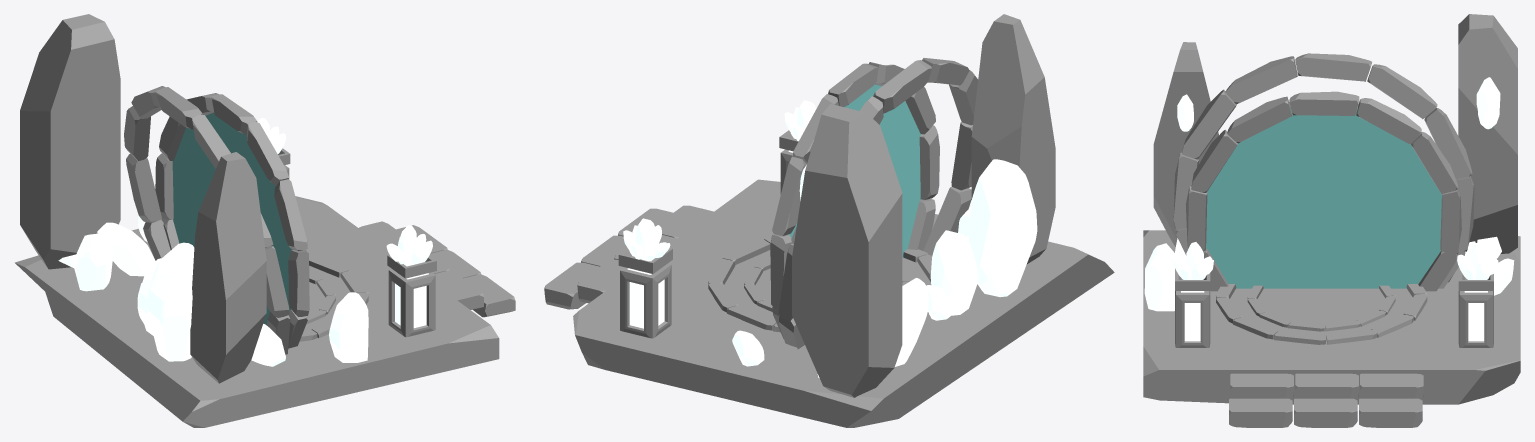
The model's file is Portal 1.fbx.
3 views of the same model, side by side, from view 1: azimuth 30°, elevation 25°; view 2: azimuth 150°, elevation 25°; view 3: azimuth 270°, elevation 25° (orthographic). The views are drawn at different scales.
Parts seen in each view (by area): view 1: Cube.003, Cube.001, Cube.010, Cube.014, Cube.017, Cube.008, Cube.016, Cube.007, Sphere.007, Cube.012, Cube.009; view 2: Cube.003, Cube.010, Cube.001, Cube.009, Cube.017, Cube.016, Cube.008, Sphere.001, Cube.002, Sphere.007; view 3: Cube.003, Cube.001, Cube.017, Cube.016, Cube.014, Sphere.007, Sphere.001, Cube.006, Cube.002, Cube.013.
Boxes of the visible parts, x1,y1,x2,y2 form: Cube.003: [15, 14, 499, 427]; Cube.001: [172, 112, 292, 325]; Cube.010: [146, 242, 194, 361]; Cube.014: [329, 292, 368, 362]; Cube.017: [396, 225, 515, 317]; Cube.008: [74, 233, 113, 291]; Cube.016: [359, 221, 483, 309]; Cube.007: [97, 222, 155, 276]; Sphere.007: [386, 225, 432, 266]; Cube.012: [251, 324, 285, 366]; Cube.009: [137, 258, 161, 335]; Cube.003: [573, 14, 1114, 427]; Cube.010: [968, 159, 1037, 297]; Cube.001: [788, 84, 921, 257]; Cube.009: [926, 230, 977, 320]; Cube.017: [544, 208, 672, 309]; Cube.016: [577, 205, 713, 303]; Cube.008: [895, 278, 928, 366]; Sphere.001: [623, 218, 670, 261]; Cube.002: [732, 330, 764, 366]; Sphere.007: [784, 100, 816, 141]; Cube.003: [1143, 14, 1520, 404]; Cube.001: [1206, 107, 1441, 288]; Cube.017: [1229, 398, 1422, 427]; Cube.016: [1230, 373, 1423, 399]; Cube.014: [1144, 243, 1175, 311]; Sphere.007: [1172, 242, 1213, 279]; Sphere.001: [1457, 242, 1498, 279]; Cube.006: [1476, 77, 1500, 129]; Cube.002: [1494, 258, 1514, 295]; Cube.013: [1177, 94, 1193, 131].
Size of the model in its own units: 2525 by 1771 by 2260.
